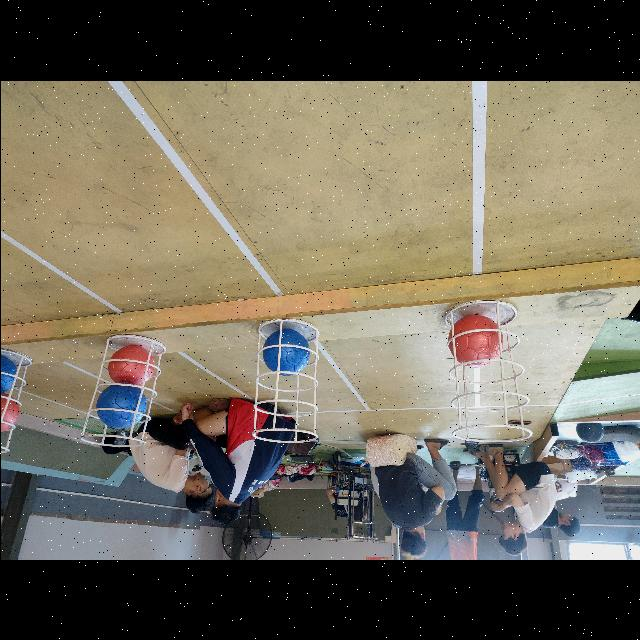B: (263, 328, 309, 376), (96, 384, 146, 428), (0, 356, 16, 394)
R: (446, 316, 504, 366), (108, 344, 154, 386), (0, 392, 18, 434)
